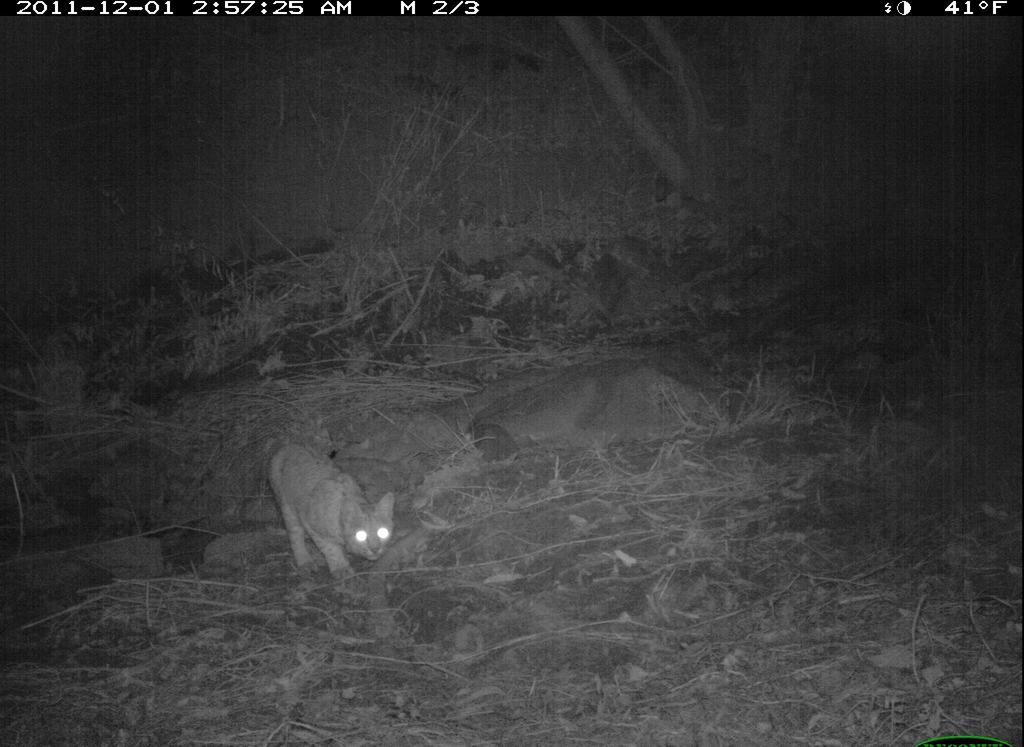bobcat: (257, 429, 410, 597)
